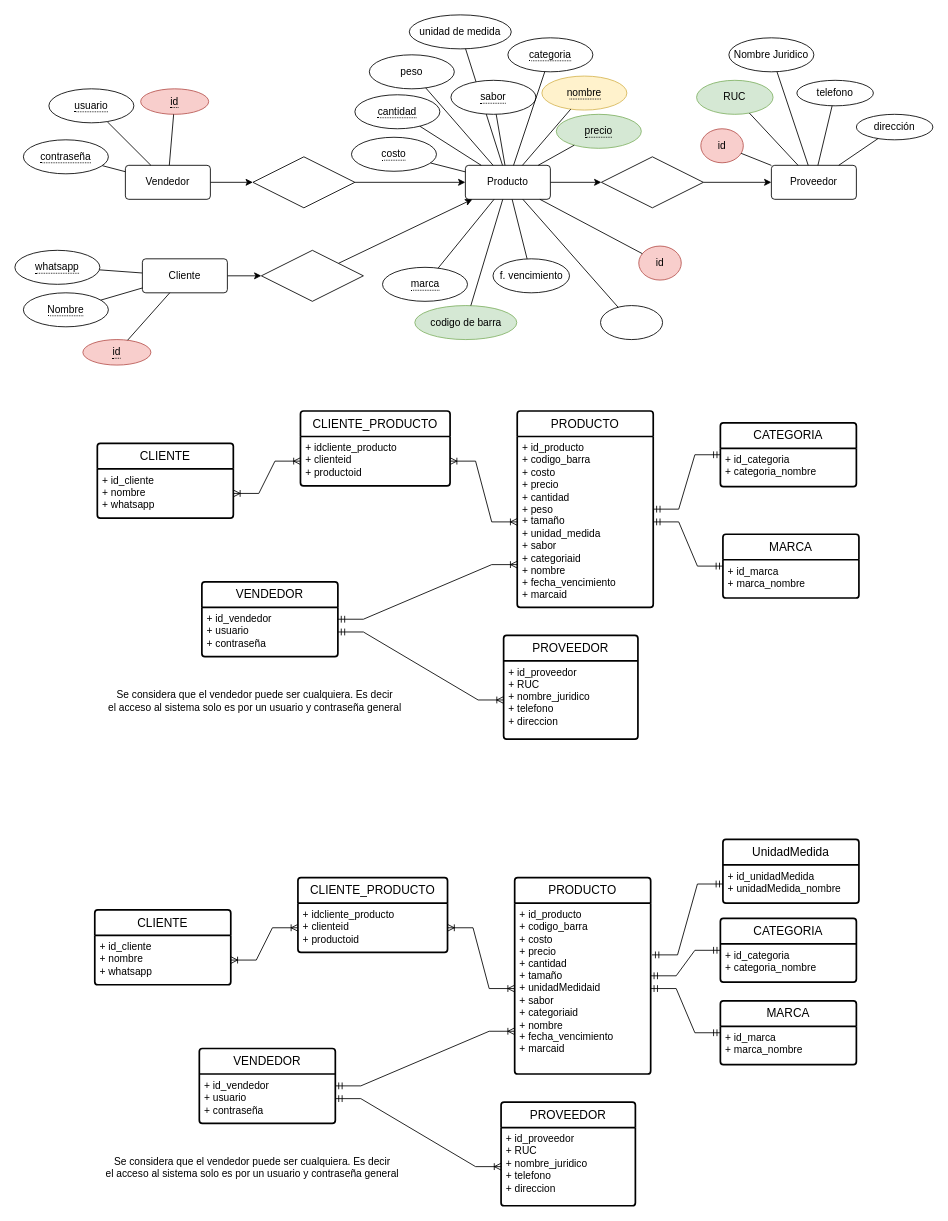
This 948x1221 diagram has some shape labels left out. Each missing label, with the centre of its shape:
"Compra" goes at pixel 312 275.
"Necesita" goes at pixel 652 182.
"Registra" goes at pixel 303 182.
"tamaño" goes at pixel 631 322.
